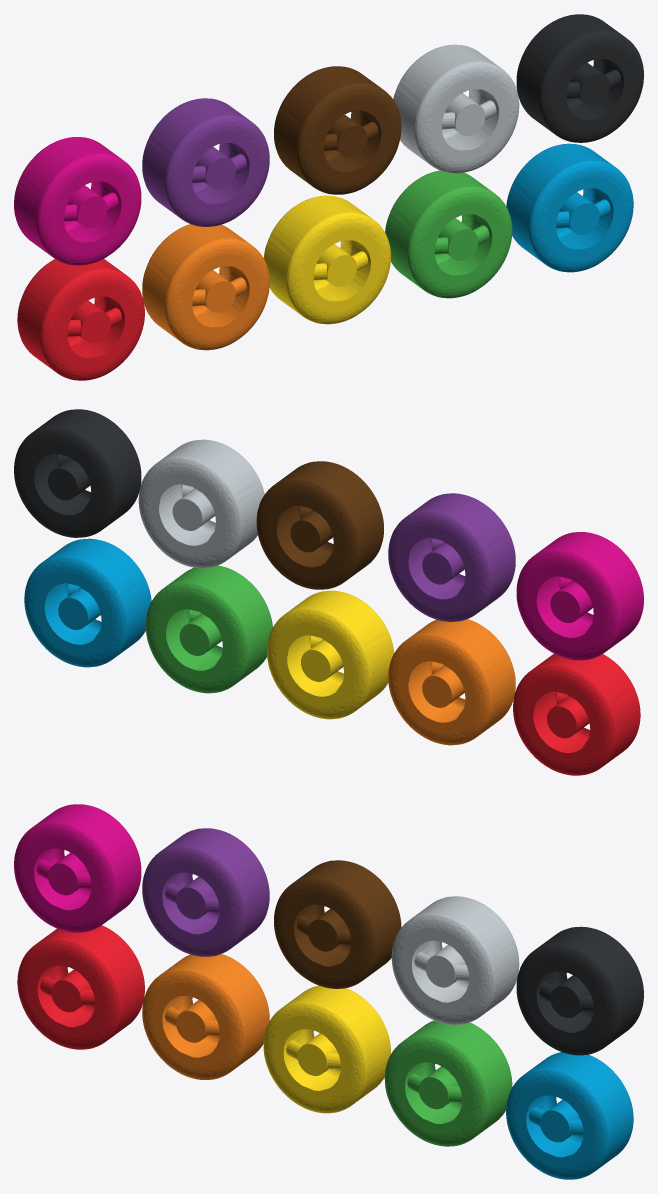
Rendered from tinker.obj.
The picture shows the model from 3 angles, top to bottom: view 1: azimuth 30°, elevation 25°; view 2: azimuth 150°, elevation 25°; view 3: azimuth 330°, elevation 25°; orthographic projection.
Visible parts, largest first — view 1: group_0_8273816, group_0_14093196, group_0_2829873, group_0_6306067, group_0_16768282, group_0_40919, group_0_16089887, group_0_4634441, group_0_12568524, group_0_15277357; view 2: group_0_8273816, group_0_14093196, group_0_6306067, group_0_2829873, group_0_40919, group_0_16768282, group_0_16089887, group_0_4634441, group_0_12568524, group_0_15277357; view 3: group_0_14093196, group_0_8273816, group_0_2829873, group_0_12568524, group_0_40919, group_0_16768282, group_0_6306067, group_0_16089887, group_0_4634441, group_0_15277357.
Boxes of the visible parts, bbox=[...] form: group_0_8273816: bbox=[142, 98, 269, 226]; group_0_14093196: bbox=[14, 137, 141, 265]; group_0_2829873: bbox=[516, 14, 643, 142]; group_0_6306067: bbox=[274, 66, 401, 194]; group_0_16768282: bbox=[263, 195, 390, 324]; group_0_40919: bbox=[506, 143, 633, 272]; group_0_16089887: bbox=[142, 224, 269, 350]; group_0_4634441: bbox=[385, 170, 512, 298]; group_0_12568524: bbox=[393, 44, 519, 173]; group_0_15277357: bbox=[17, 259, 144, 380]; group_0_8273816: bbox=[388, 493, 515, 621]; group_0_14093196: bbox=[516, 532, 643, 660]; group_0_6306067: bbox=[256, 461, 383, 589]; group_0_2829873: bbox=[14, 409, 141, 537]; group_0_40919: bbox=[24, 538, 151, 667]; group_0_16768282: bbox=[267, 590, 394, 719]; group_0_16089887: bbox=[388, 619, 515, 745]; group_0_4634441: bbox=[145, 565, 272, 693]; group_0_12568524: bbox=[138, 439, 264, 568]; group_0_15277357: bbox=[513, 654, 640, 775]; group_0_14093196: bbox=[14, 804, 141, 932]; group_0_8273816: bbox=[142, 828, 269, 956]; group_0_2829873: bbox=[516, 926, 643, 1055]; group_0_12568524: bbox=[391, 896, 519, 1024]; group_0_40919: bbox=[506, 1052, 633, 1179]; group_0_16768282: bbox=[263, 985, 390, 1113]; group_0_6306067: bbox=[274, 860, 401, 988]; group_0_16089887: bbox=[142, 954, 269, 1079]; group_0_4634441: bbox=[384, 1020, 512, 1146]; group_0_15277357: bbox=[17, 925, 144, 1049].
Bounding box in the file's own units: 175 × 67 × 15.
